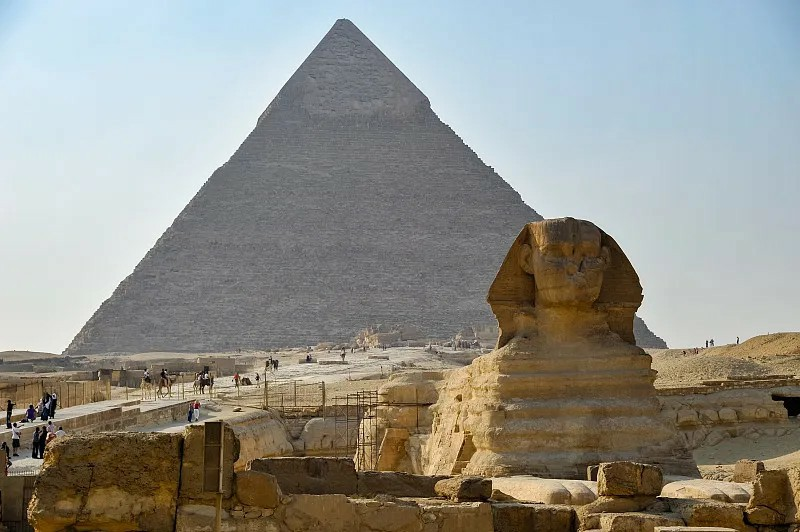Pyramid: (60, 20, 670, 348)
